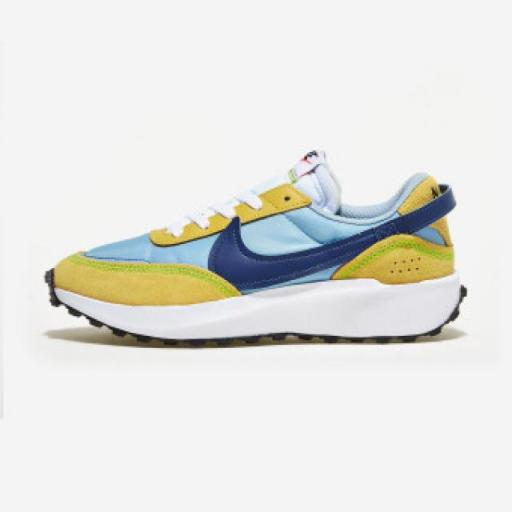Nike: (204, 218, 414, 292)
